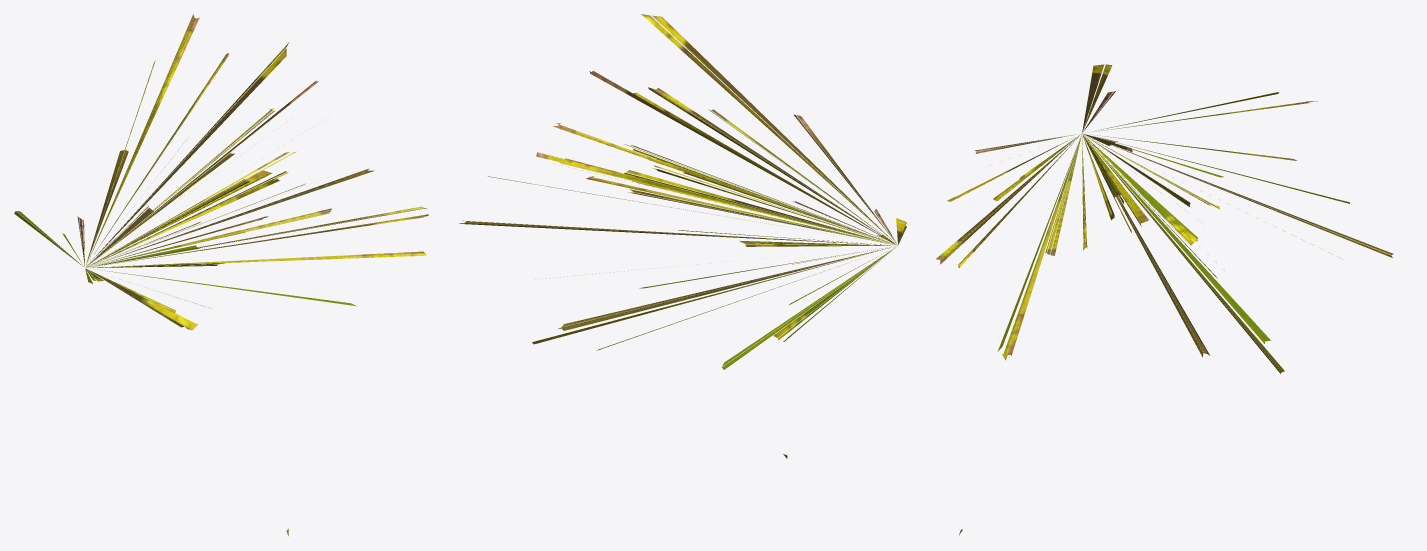
File: nature_oak_small_01.glb
3 renders of one model, left to right at view 1: azimuth 30°, elevation 25°; view 2: azimuth 150°, elevation 25°; view 3: azimuth 270°, elevation 25°, orthographic. The views are drawn at different scales.
Visible parts, largest first — view 1: geometry_0; view 2: geometry_0; view 3: geometry_0.
Boxes of the visible parts, left/top/right/bottom form: geometry_0: left=14, top=14, right=428, bottom=535; geometry_0: left=459, top=14, right=906, bottom=458; geometry_0: left=936, top=64, right=1393, bottom=535.
Bounding box in the file's own units: 0.7577 × 0.8964 × 0.7608.
1 material, 1 textured.
